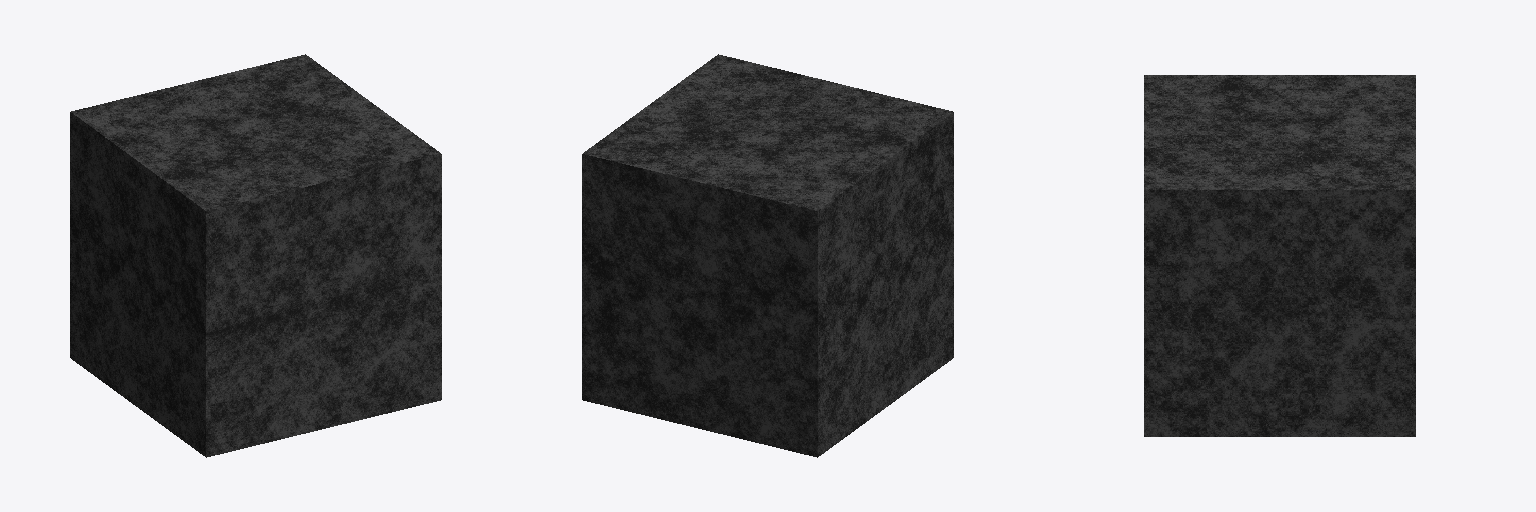
3 views of the same model, side by side, from view 1: azimuth 30°, elevation 25°; view 2: azimuth 150°, elevation 25°; view 3: azimuth 270°, elevation 25° (orthographic).
Visible parts, largest first — view 1: 立方体; view 2: 立方体; view 3: 立方体.
Part boxes in pixels (bbox=[...]): 立方体: bbox=[70, 54, 441, 457]; 立方体: bbox=[582, 54, 953, 457]; 立方体: bbox=[1144, 75, 1415, 436].
Bounding box in the file's own units: 2 × 2 × 2.
Materials: 1 (1 with a texture image).